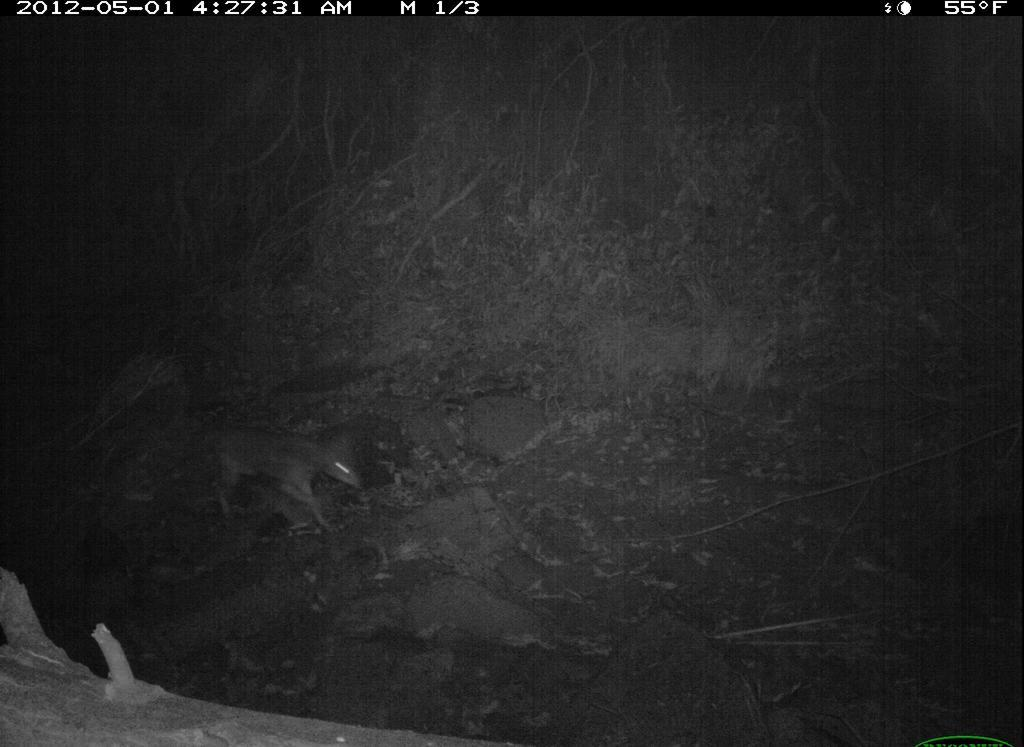coyote: (192, 424, 372, 543)
